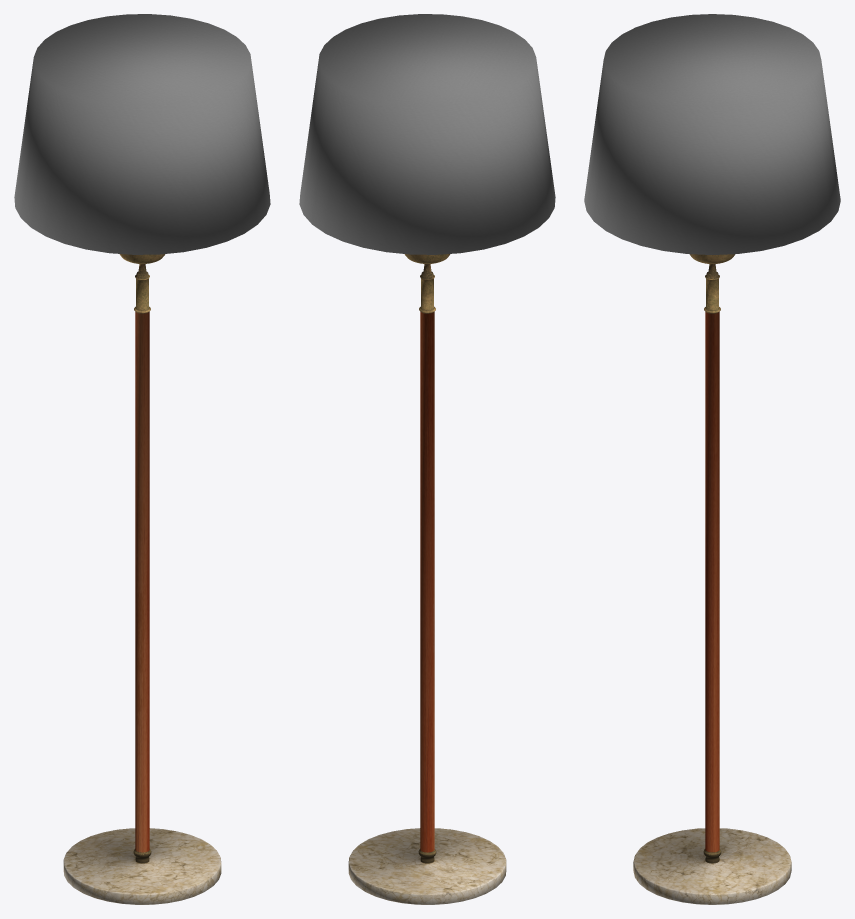
The model's file is piantana.fbx.
3 renders of one model, left to right at view 1: azimuth 30°, elevation 25°; view 2: azimuth 150°, elevation 25°; view 3: azimuth 270°, elevation 25°, orthographic.
Visible parts, largest first — view 1: luce, asta; view 2: luce, asta; view 3: luce, asta.
Boxes of the visible parts, bbox=[...] form: luce: bbox=[14, 14, 270, 254]; asta: bbox=[63, 254, 221, 904]; luce: bbox=[299, 14, 555, 254]; asta: bbox=[348, 254, 506, 904]; luce: bbox=[584, 14, 840, 254]; asta: bbox=[633, 254, 791, 904].
Bounding box in the file's own units: 30.72 × 107 × 30.72.
